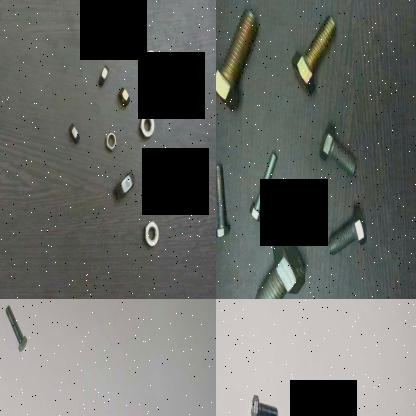Bolts: (216, 3, 263, 113), (288, 5, 340, 101), (252, 230, 309, 299), (323, 202, 372, 264), (316, 118, 361, 182), (247, 147, 278, 233), (216, 154, 231, 250), (1, 301, 29, 351), (244, 386, 280, 416)
NUTS: (112, 166, 136, 206), (138, 108, 156, 142), (160, 72, 180, 102), (152, 160, 168, 192), (142, 218, 158, 247), (65, 120, 81, 148), (140, 43, 156, 68), (116, 82, 130, 110), (104, 130, 118, 156), (96, 62, 111, 86)
